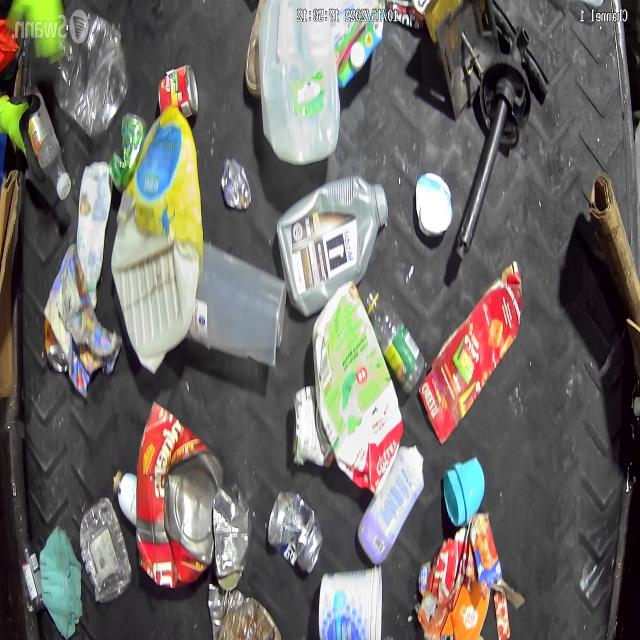can: (267, 489, 322, 574), (214, 486, 251, 584), (159, 63, 201, 121), (220, 160, 251, 210)
milk_jug: (259, 0, 343, 159)
non_white_jug: (112, 119, 201, 371), (134, 400, 223, 589), (284, 172, 387, 317)
